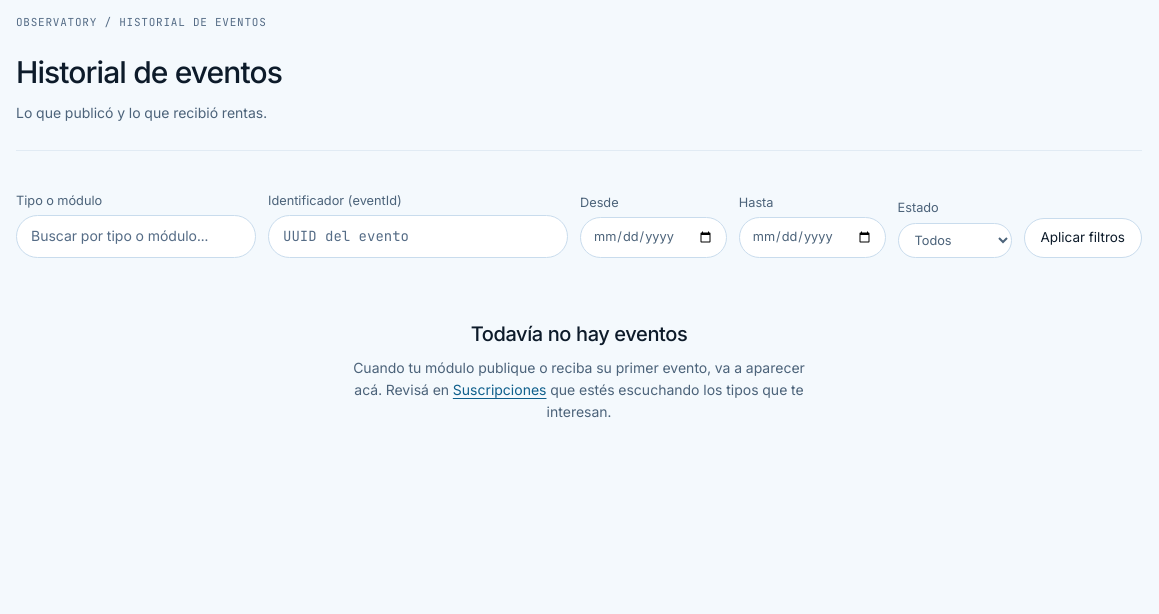
Historial de eventos › combina UUID con texto y estado sin ignorar filtros
Expected: the heading "Todavía no hay eventos" is shown, [471,322,687,346]
Type "3f2b6c1e-8a1d-4c55-9b0e-2a7f5d3c9e10" into the field labelled "Identificador (eventId)". click: x=418, y=236
box: [268,215,568,258]
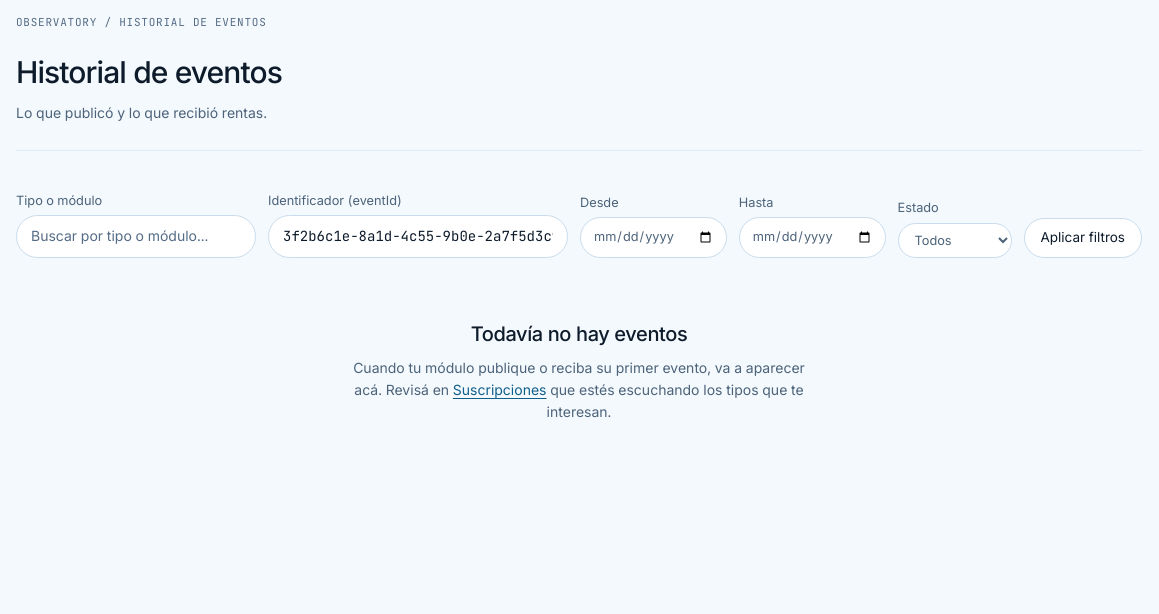
Type "ticket" into the search field named "buscar eventos". click: x=136, y=236
box: [16,215,256,258]
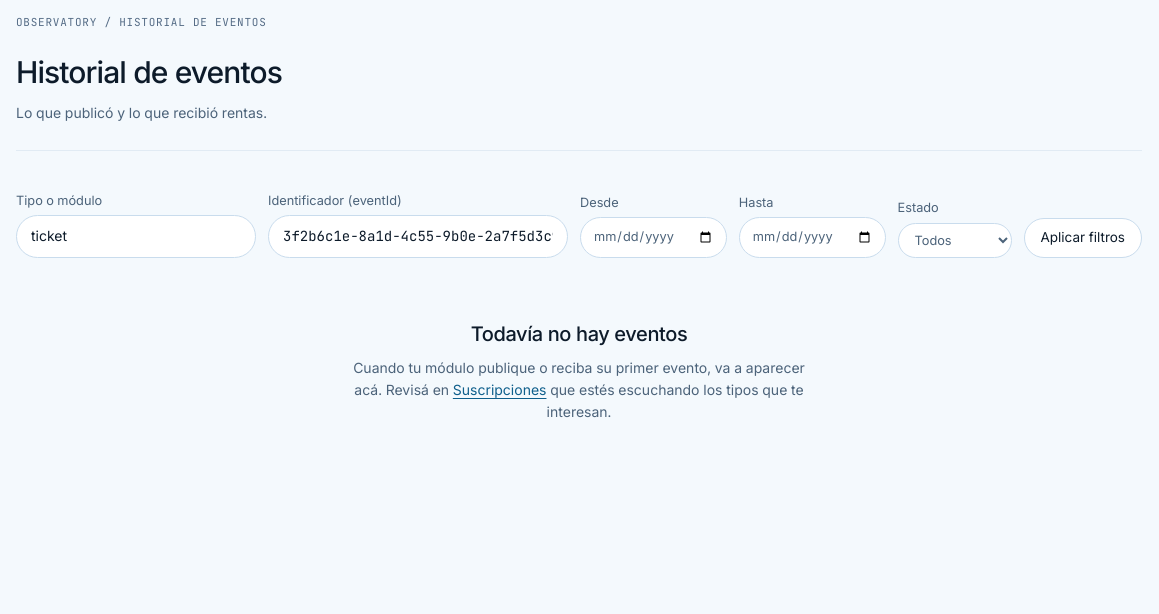
Select "Rechazado" in the dropdown labelled "Estado". click: x=954, y=240
box: [898,223,1012,258]
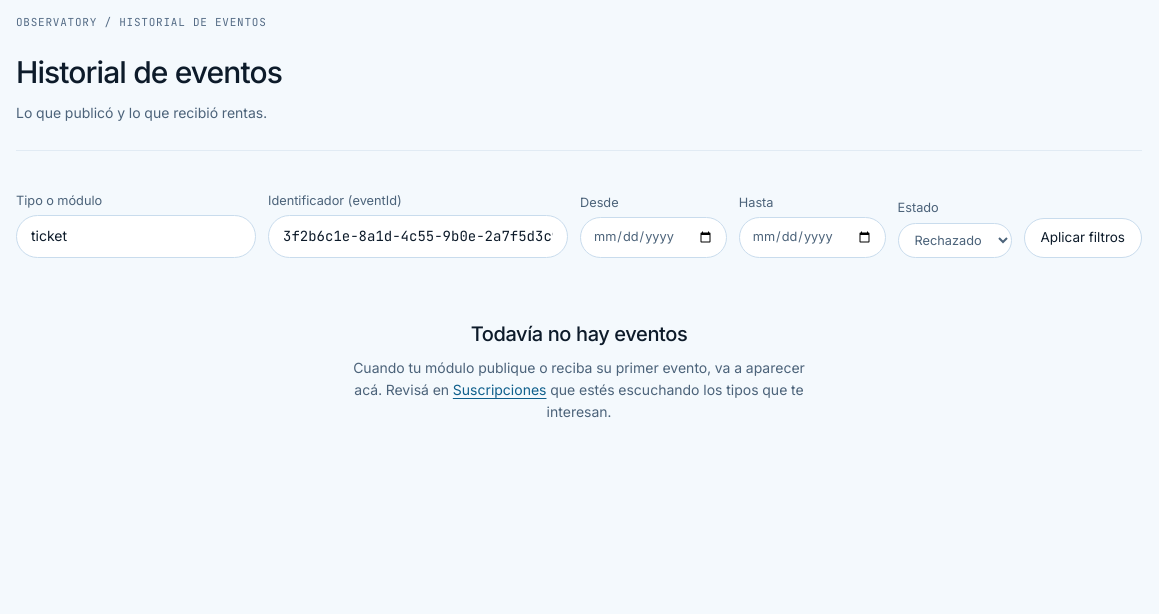
Click the button "Aplicar filtros". click: x=1083, y=238
box: [1024,218,1142,258]
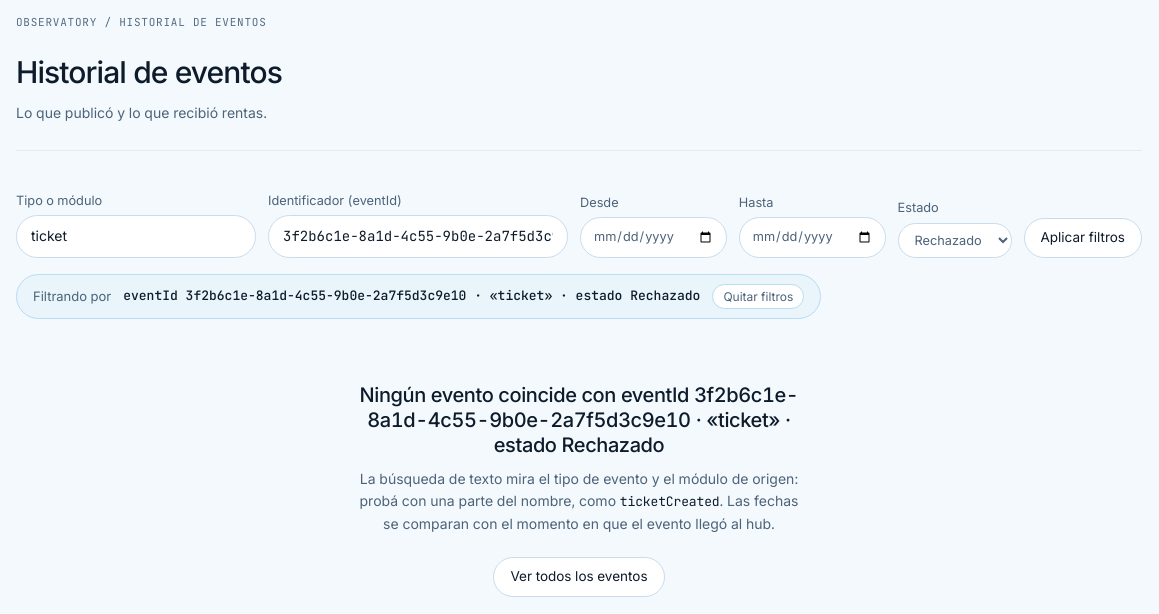
Result: the heading "Ningún evento coincide" is shown at [352,383,806,458]
